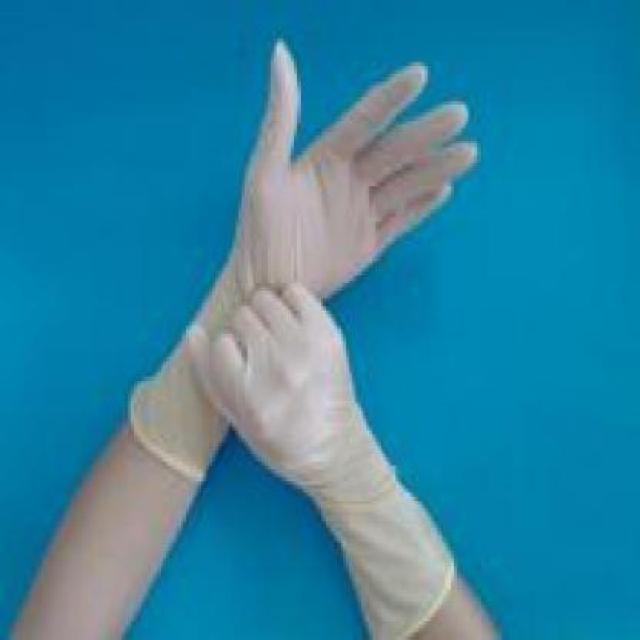hand_glove: (223, 31, 474, 298), (181, 275, 393, 520)
